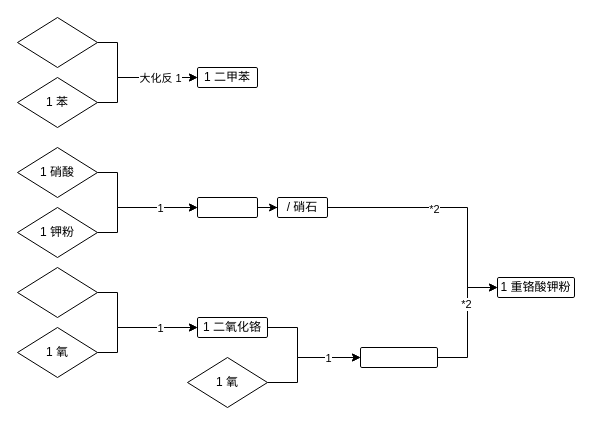
Some shapes in this 592 by 425 pixel diagram are drawn without their labels. Here are the shapes that lost their labels. From the top down, the centre of each, then its label:
point (57, 42): 1 甲烷
point (227, 207): 1 硝酸钾
point (57, 292): 1 铬粉
point (399, 357): 1 三氧化铬粉
